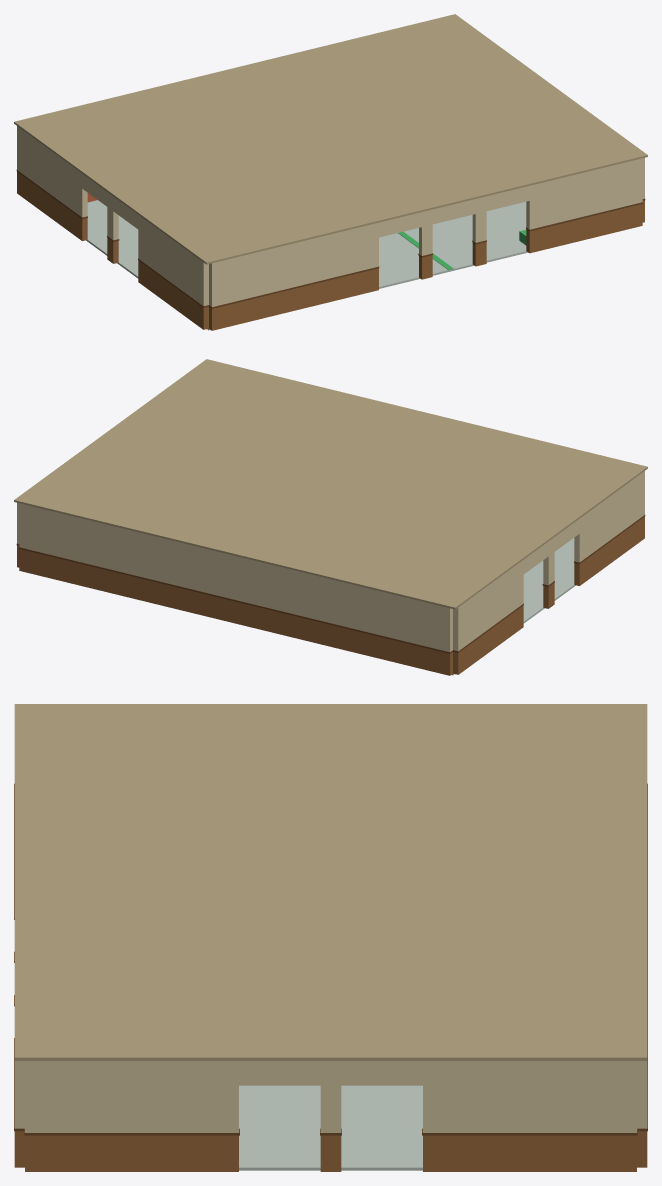
Rendered from room_botany_welcome_center.glb.
3 renders of one model, top to bottom at view 1: azimuth 30°, elevation 25°; view 2: azimuth 150°, elevation 25°; view 3: azimuth 270°, elevation 25°, orthographic. The views are drawn at different scales.
Parts seen in each view (by area): view 1: room_botany_welcome_center; view 2: room_botany_welcome_center; view 3: room_botany_welcome_center.
Boxes of the visible parts, x1,y1,x2,y2 form: room_botany_welcome_center: [14, 14, 647, 330]; room_botany_welcome_center: [14, 359, 647, 675]; room_botany_welcome_center: [14, 704, 647, 1171].
Size of the model in its own units: 24.62 by 3.8 by 18.64.
1 material, 1 textured.
